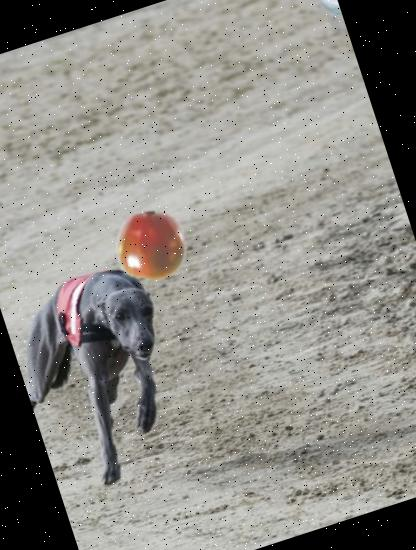Tomato: (106, 200, 198, 292)
